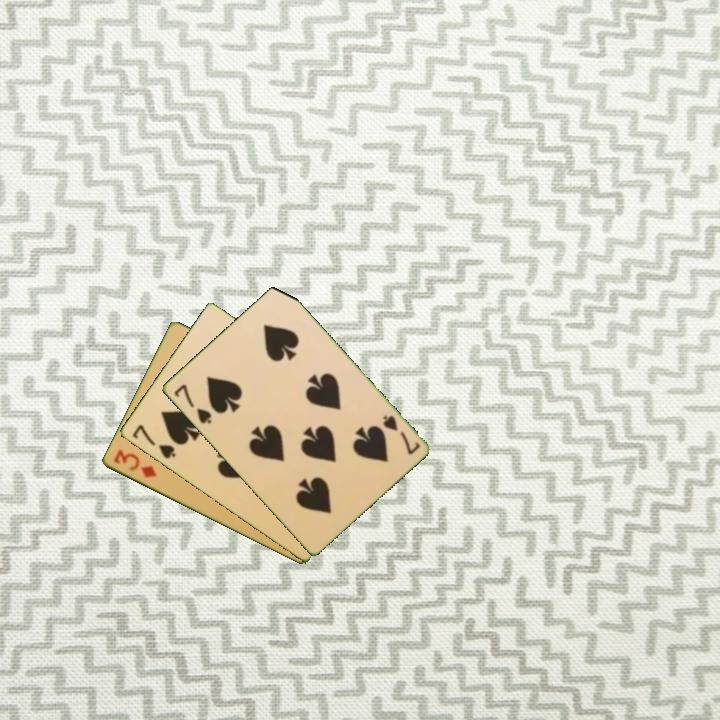3d: (110, 446, 159, 481)
7s: (128, 421, 178, 462), (170, 381, 214, 427), (379, 412, 423, 458)
